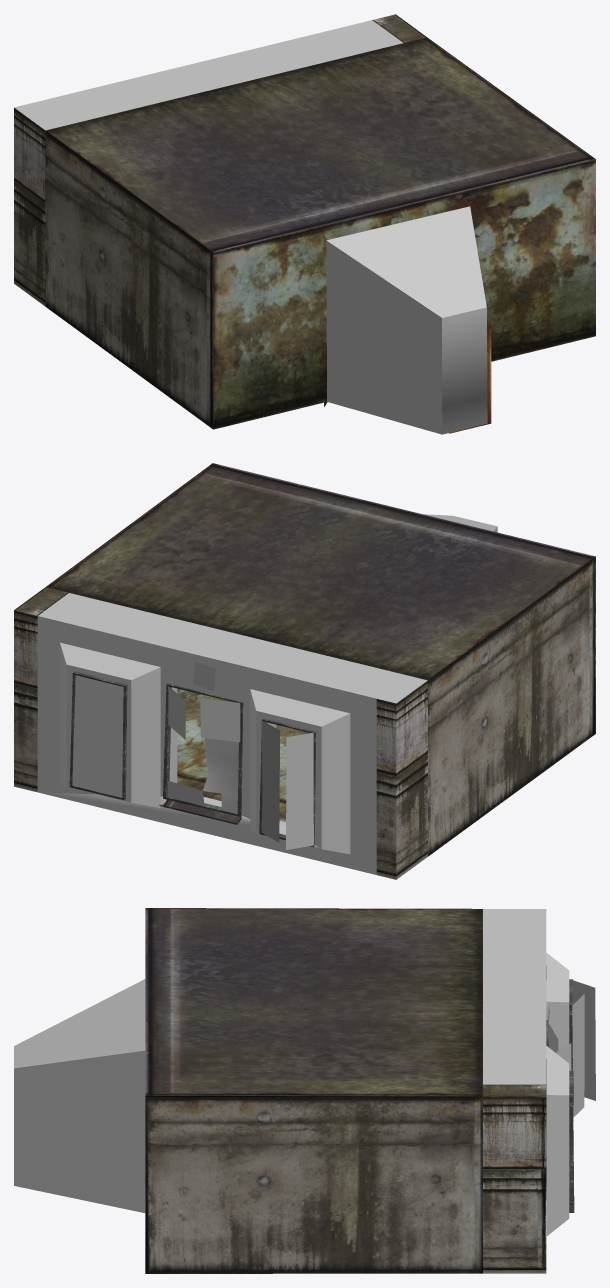
The model's file is Store_front_11_C.fbx.
3 renders of one model, top to bottom at view 1: azimuth 30°, elevation 25°; view 2: azimuth 150°, elevation 25°; view 3: azimuth 270°, elevation 25°, orthographic.
Parts seen in each view (by area): view 1: Store_front_11_C; view 2: Store_front_11_C; view 3: Store_front_11_C.
Part boxes in pixels (x1,y1,x2,y2): Store_front_11_C: [14, 14, 595, 434]; Store_front_11_C: [14, 463, 595, 879]; Store_front_11_C: [14, 908, 595, 1273].
Size of the model in its own units: 701 by 322 by 918.
